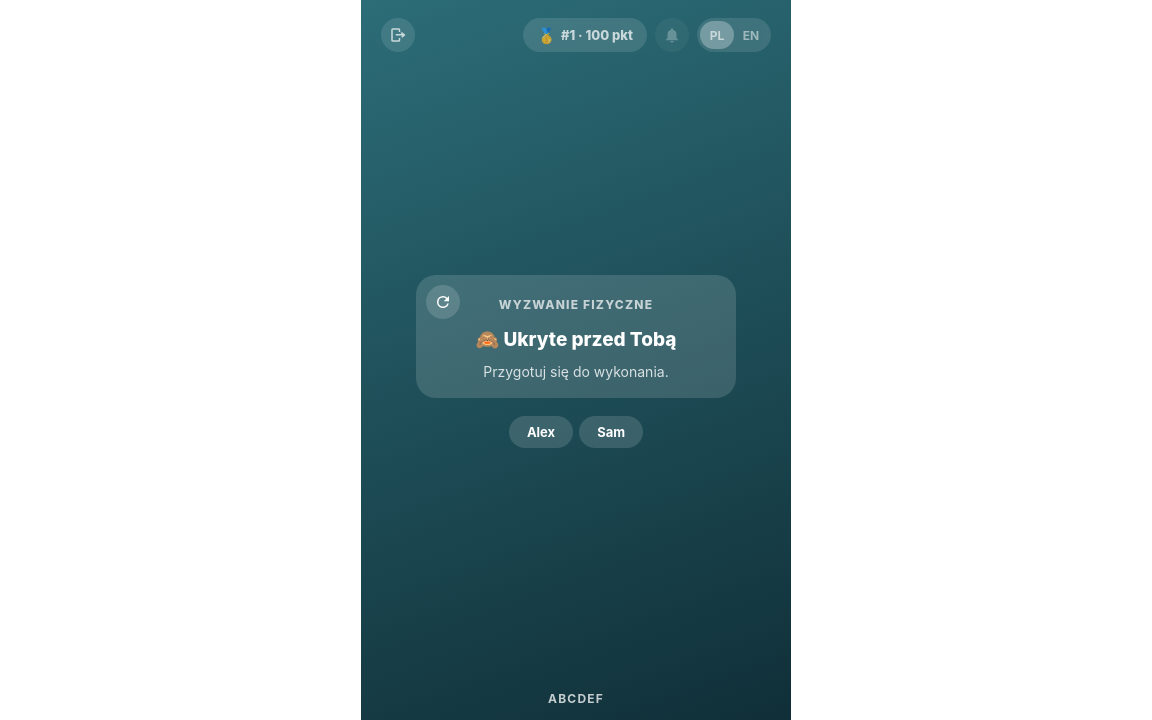
Test: Leaderboard row menu › offers Pause alone for an active Guest, and pauses them in one tap
Click the button "🥇 #1 · 100 pkt": (585, 35) [523,18,647,52]
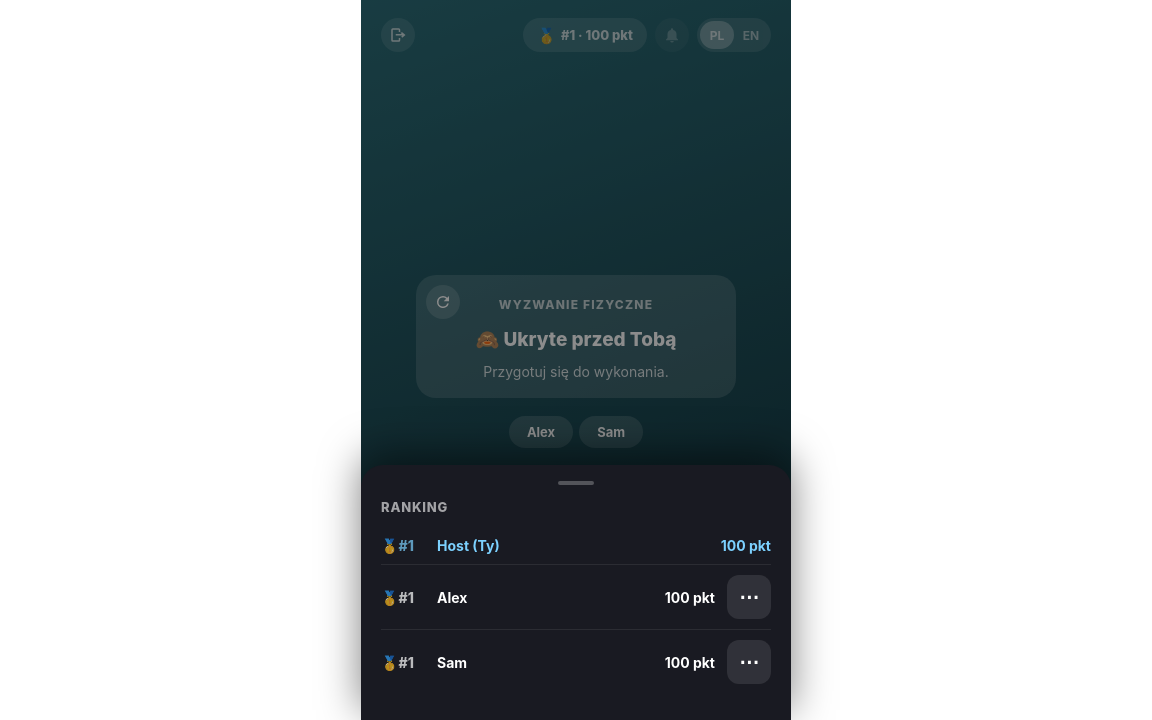
Click the 2nd button "⋯": (749, 662) [727,640,771,684]
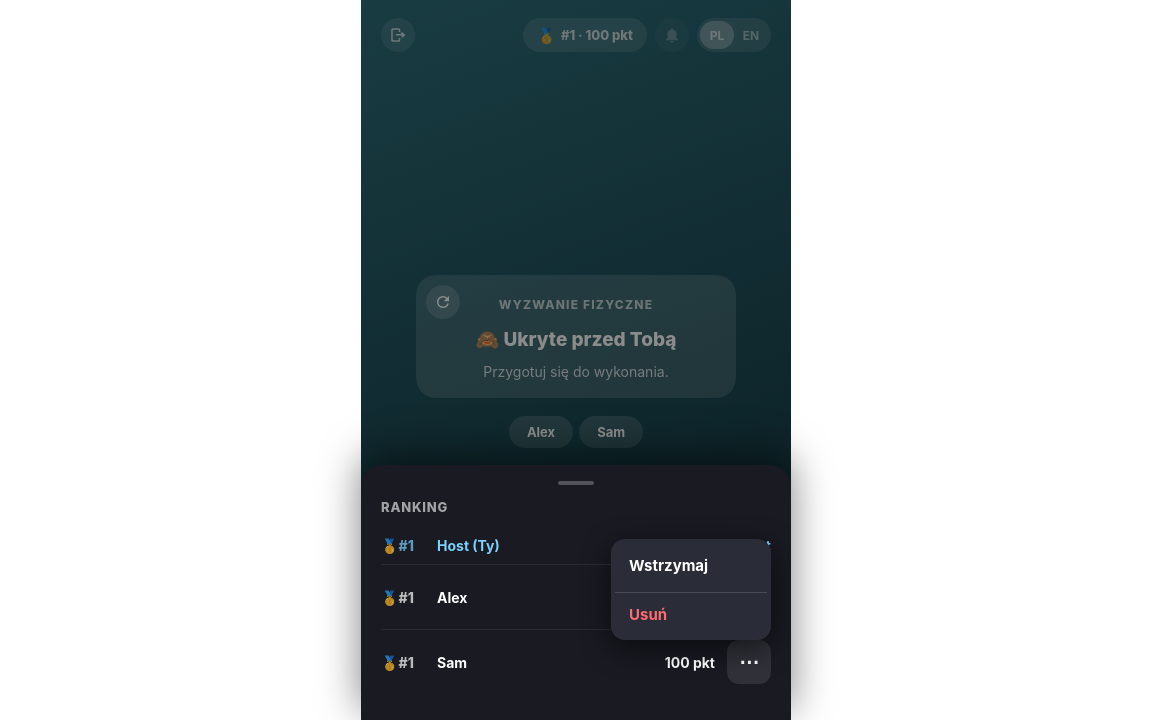
Click the menu item "Wstrzymaj": (691, 565) [615,543,767,587]
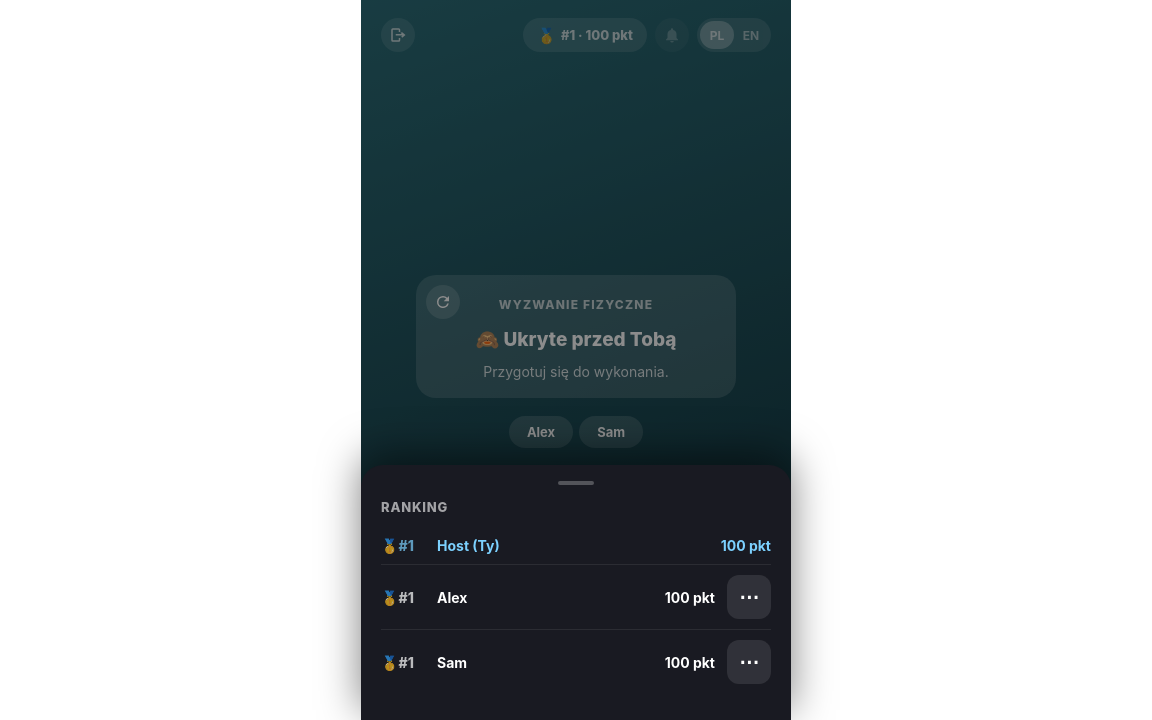
Check: the menu item "Wstrzymaj" is gone
